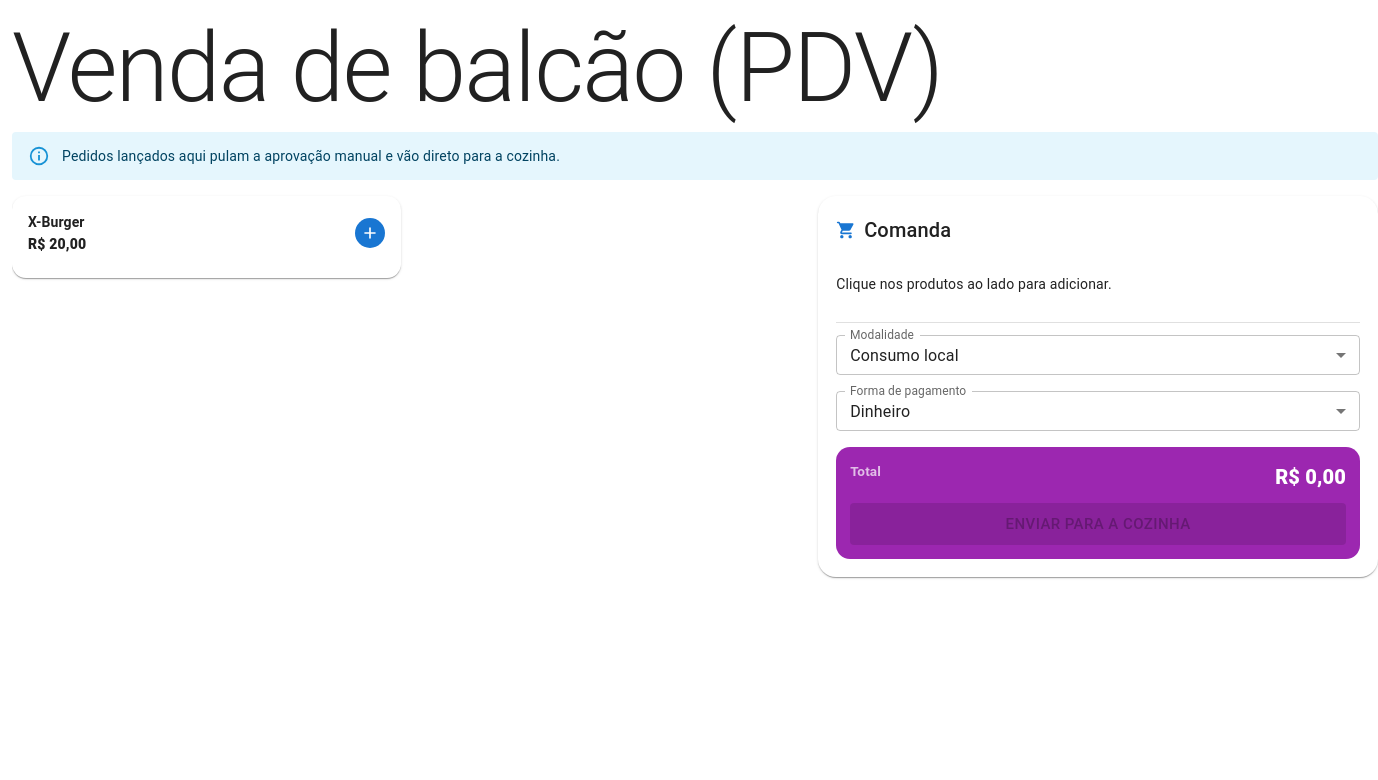
Scenario: PdvPage › diminuir a quantidade até zero remove o item da comanda
Click the heading "X-Burger" at (57, 223), box [28,212,86,234]
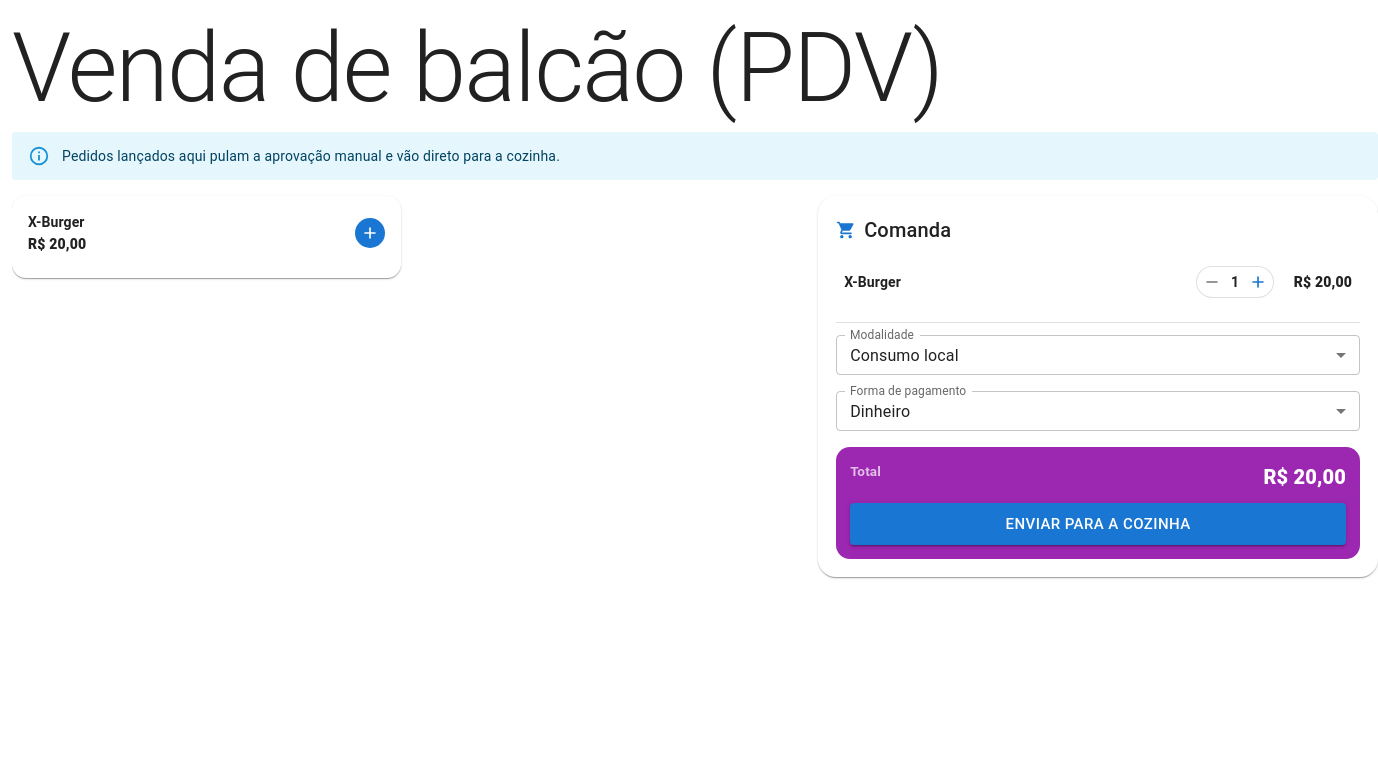
Click the 1st button at (1212, 282), box [1197,267,1227,297]
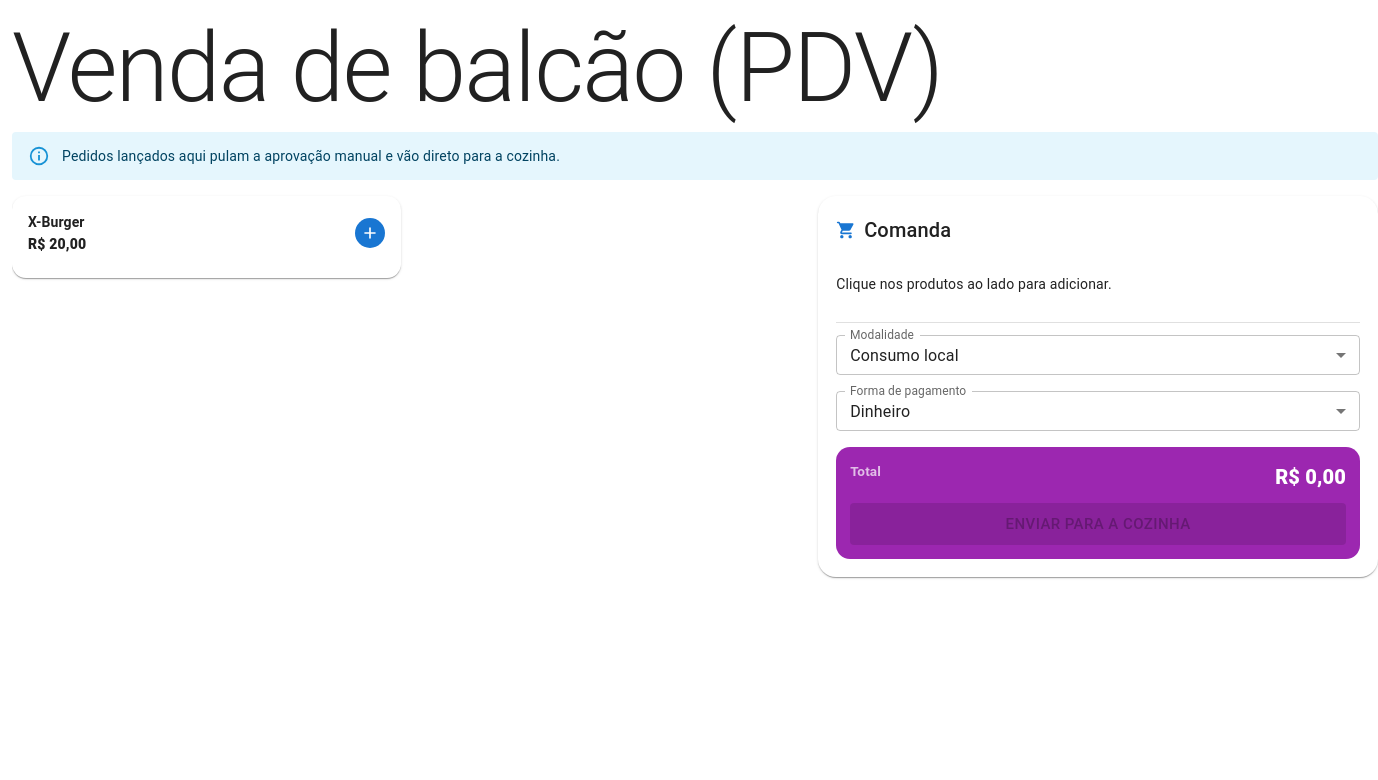
Expected: the text "Clique nos produtos ao lado para adicionar." is shown, [836,276,1112,292]
